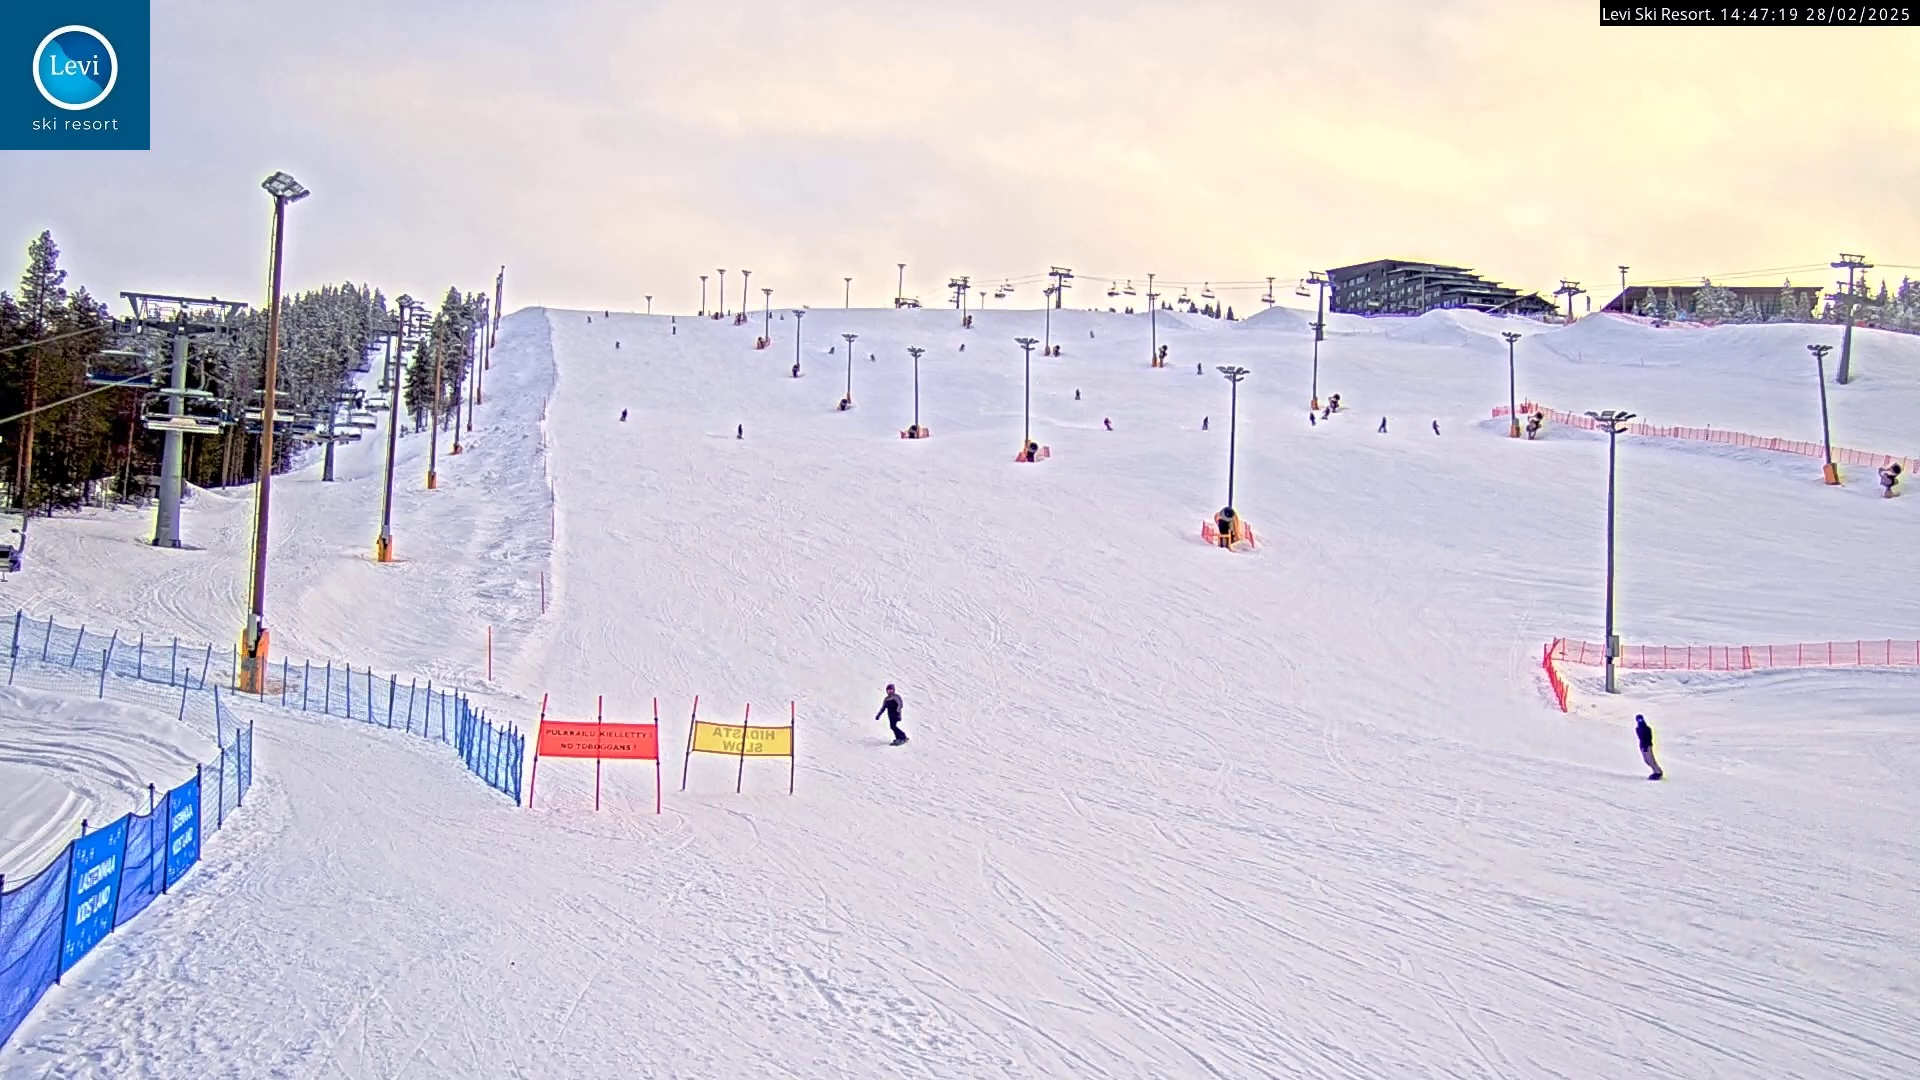snowboarder: (872, 683, 907, 744), (1631, 716, 1663, 778)
